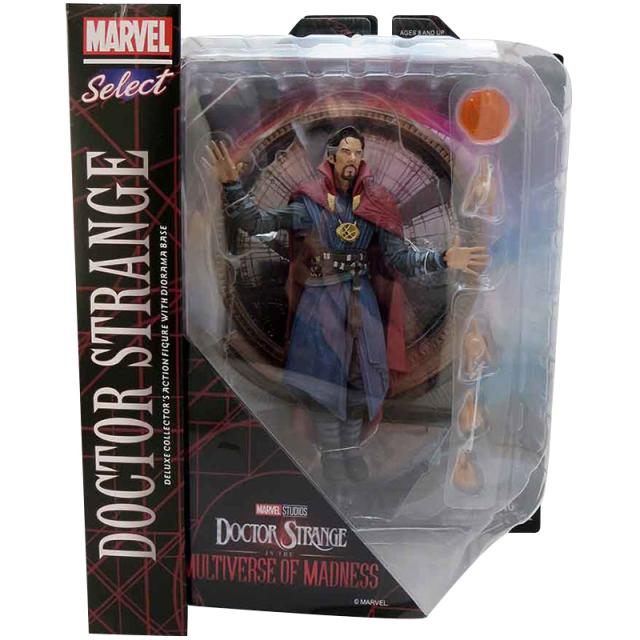doctor_strange: (246, 105, 476, 446)
